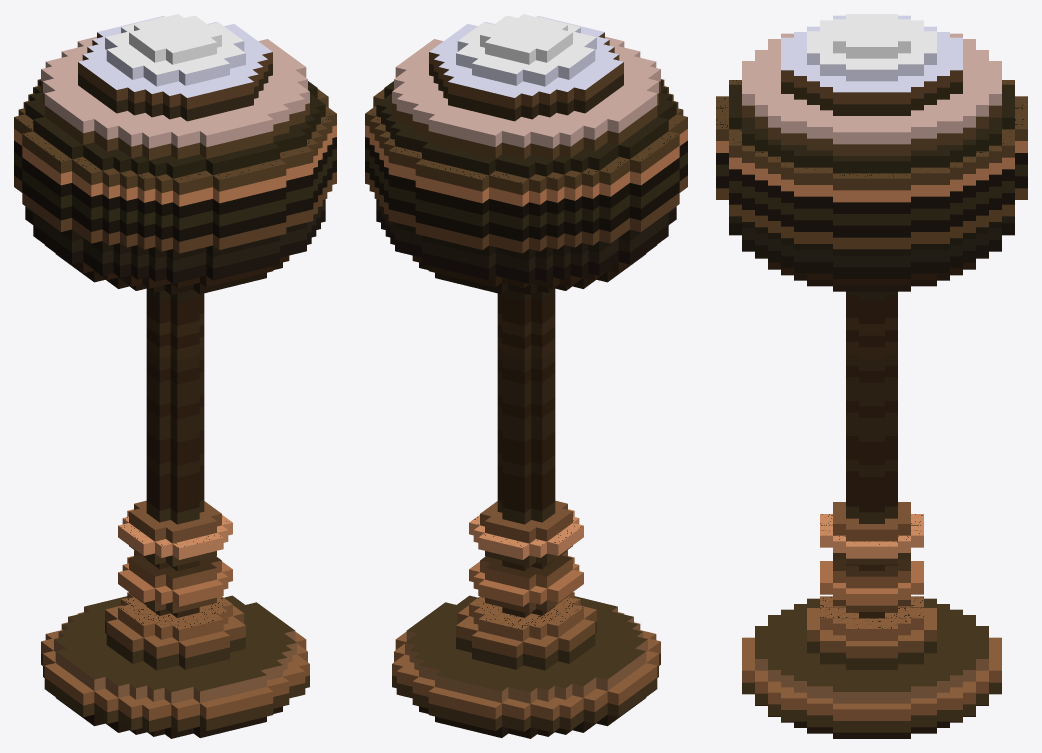
Rendered from TBLU_stand.obj.
3 views of the same model, side by side, from view 1: azimuth 30°, elevation 25°; view 2: azimuth 150°, elevation 25°; view 3: azimuth 270°, elevation 25° (orthographic).
Visible parts, largest first — view 1: TorchFlame; view 2: TorchFlame; view 3: TorchFlame.
Part boxes in pixels (bbox=[...]): TorchFlame: bbox=[14, 14, 336, 738]; TorchFlame: bbox=[365, 14, 687, 738]; TorchFlame: bbox=[716, 14, 1027, 738].
Bounding box in the file's own units: 0.4286 × 1 × 0.4286.
Materials: 1 (1 with a texture image).
